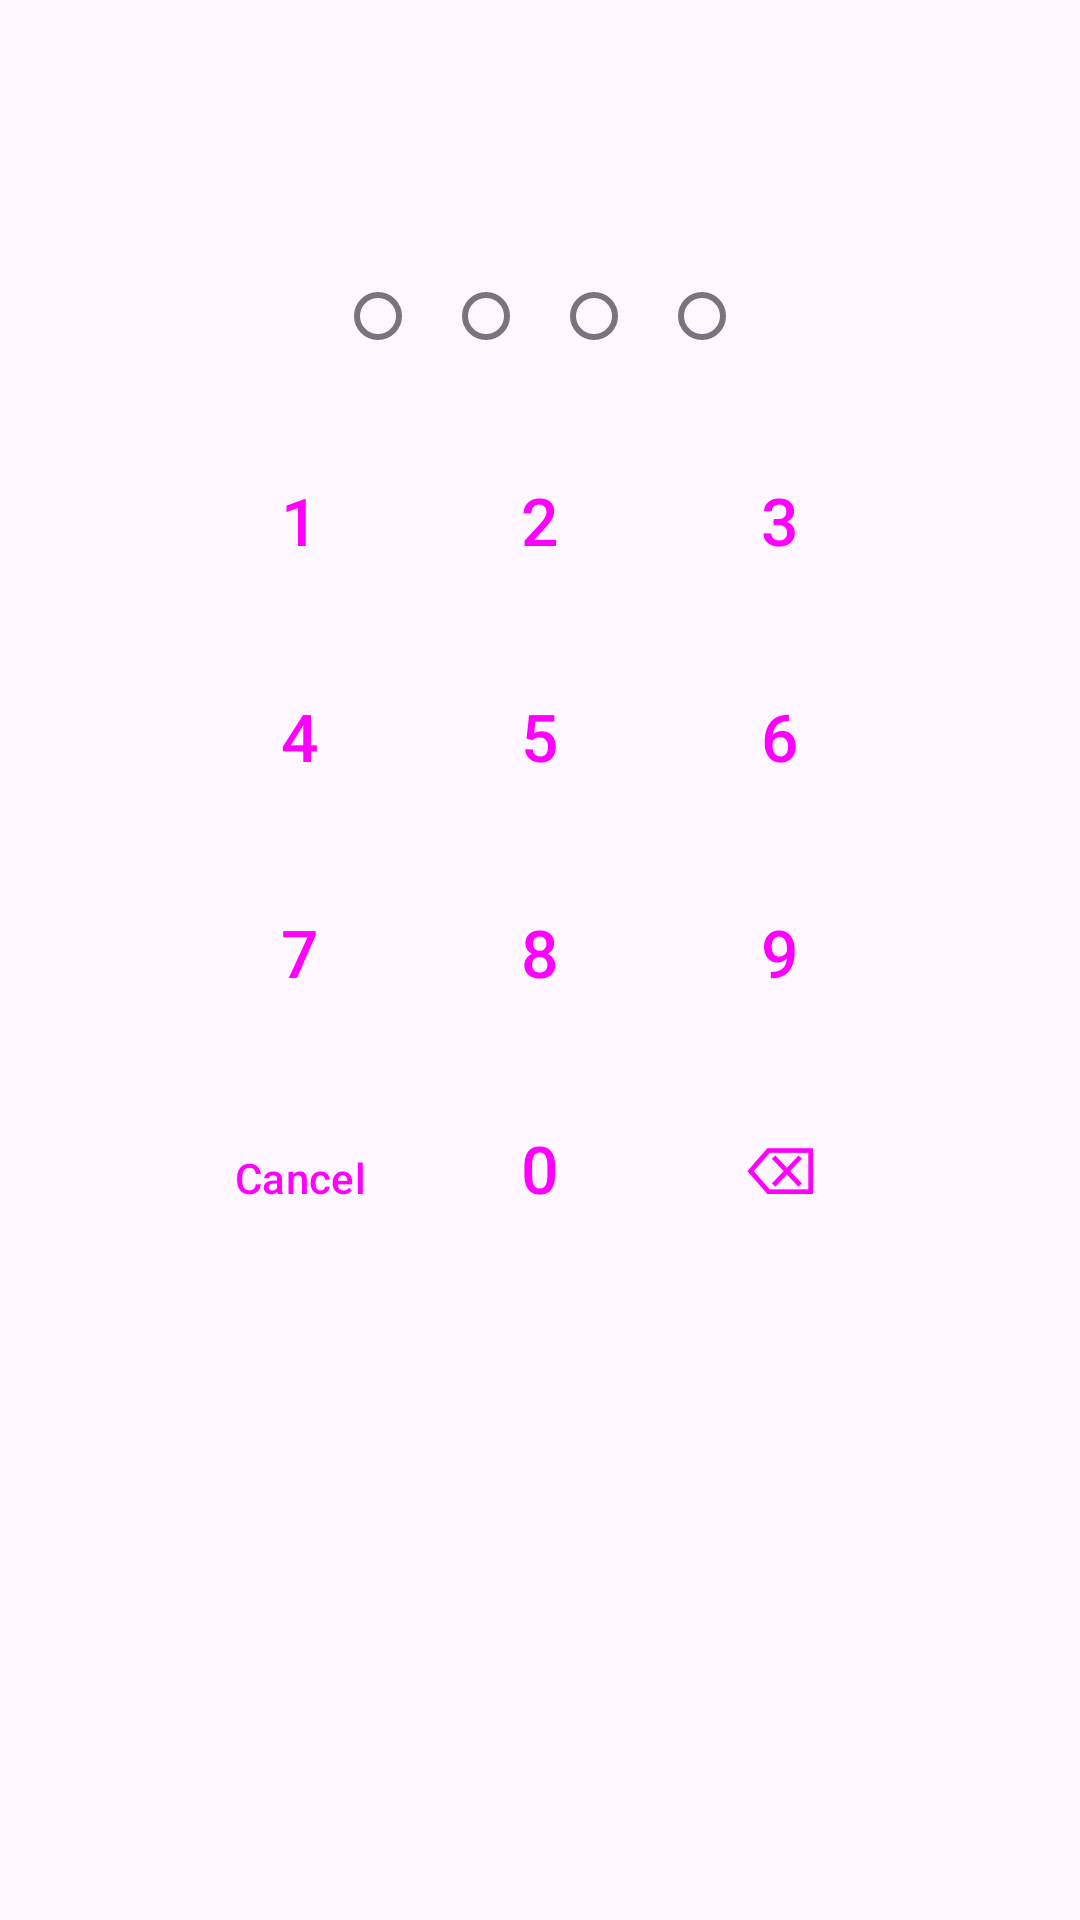

Screen size 1080px x 1920px. Icon name, then its center in pixels as (x,y):
pin dot empty: (378,316), (486,316), (594,316), (702,316)
